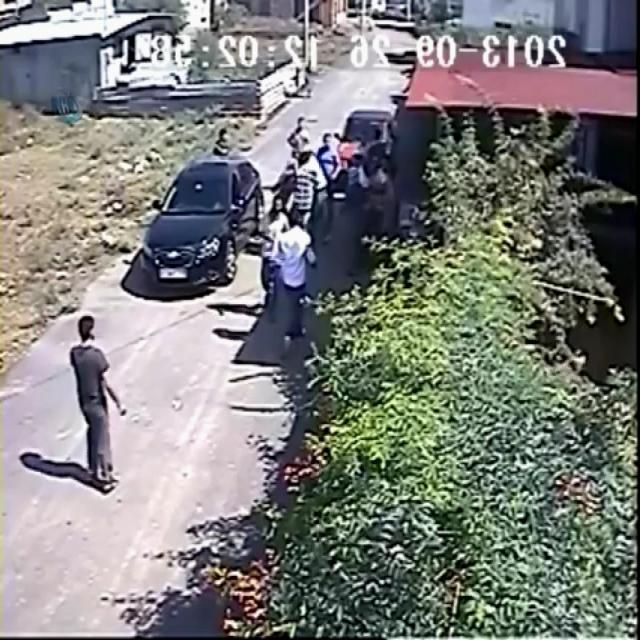fight: (262, 193, 318, 346)
